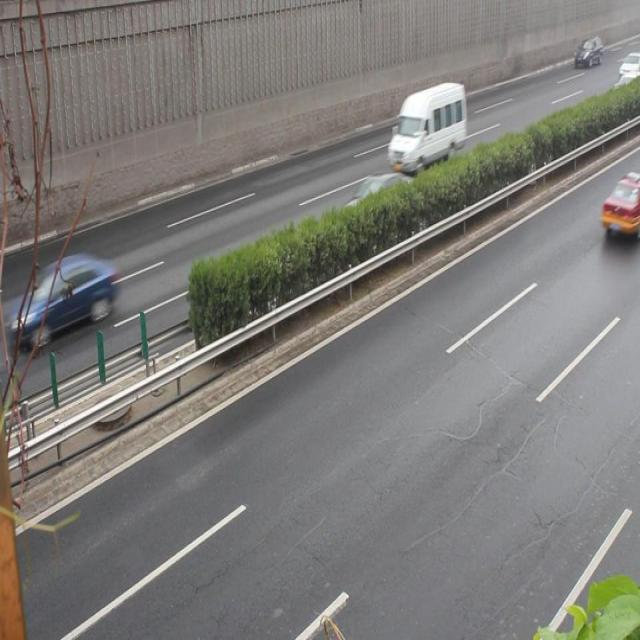car: (21, 254, 118, 340), (338, 174, 410, 240), (600, 176, 640, 240)
truck: (387, 83, 466, 171)
